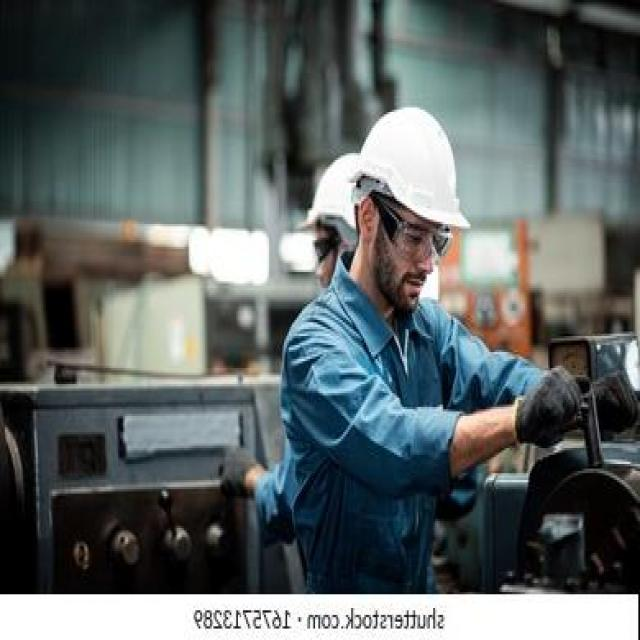safety_helmet: (351, 100, 469, 230), (300, 146, 369, 239)
